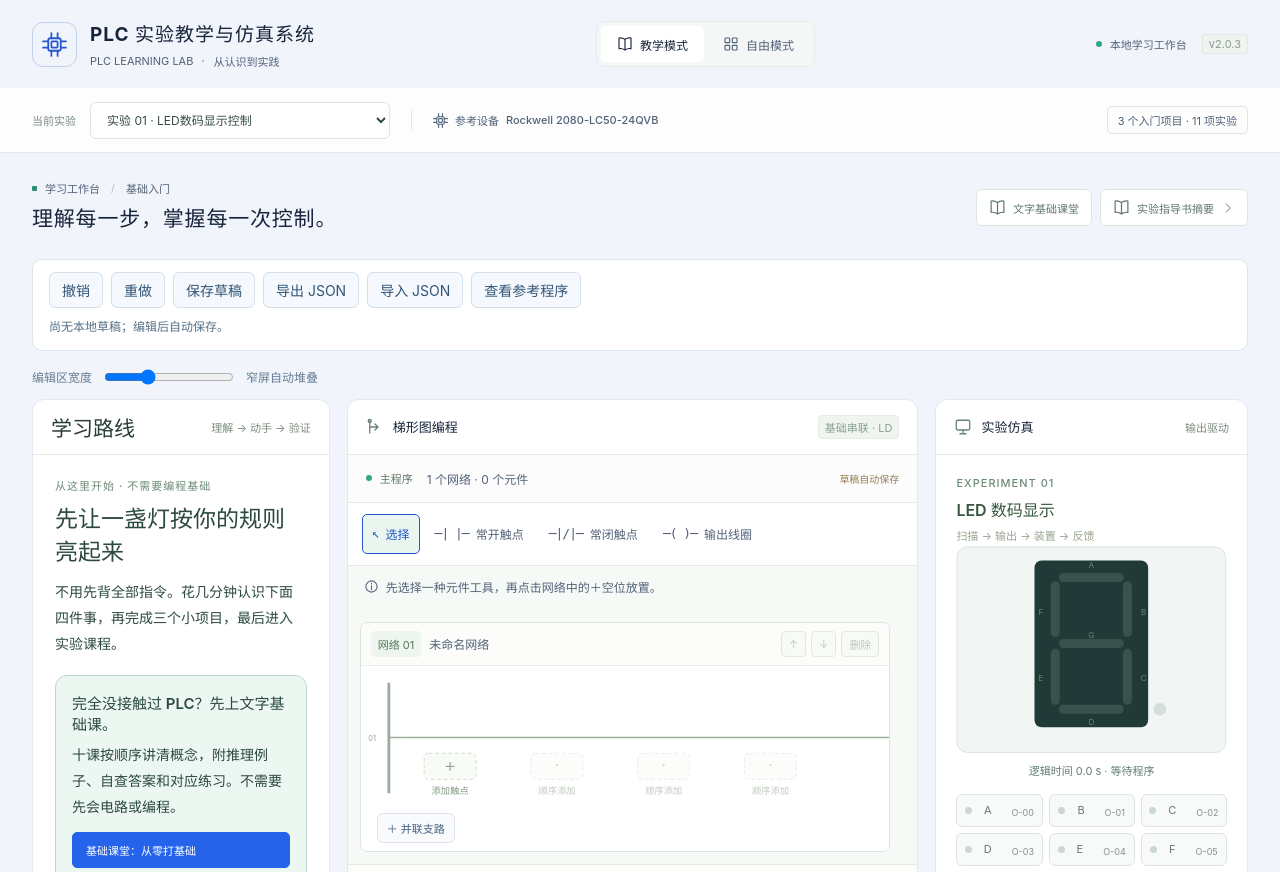
it: 阅读保存失败仍能继续换课，显示失败说明
Click the button "文字基础课堂" at (1034, 208), box [976,189,1092,226]
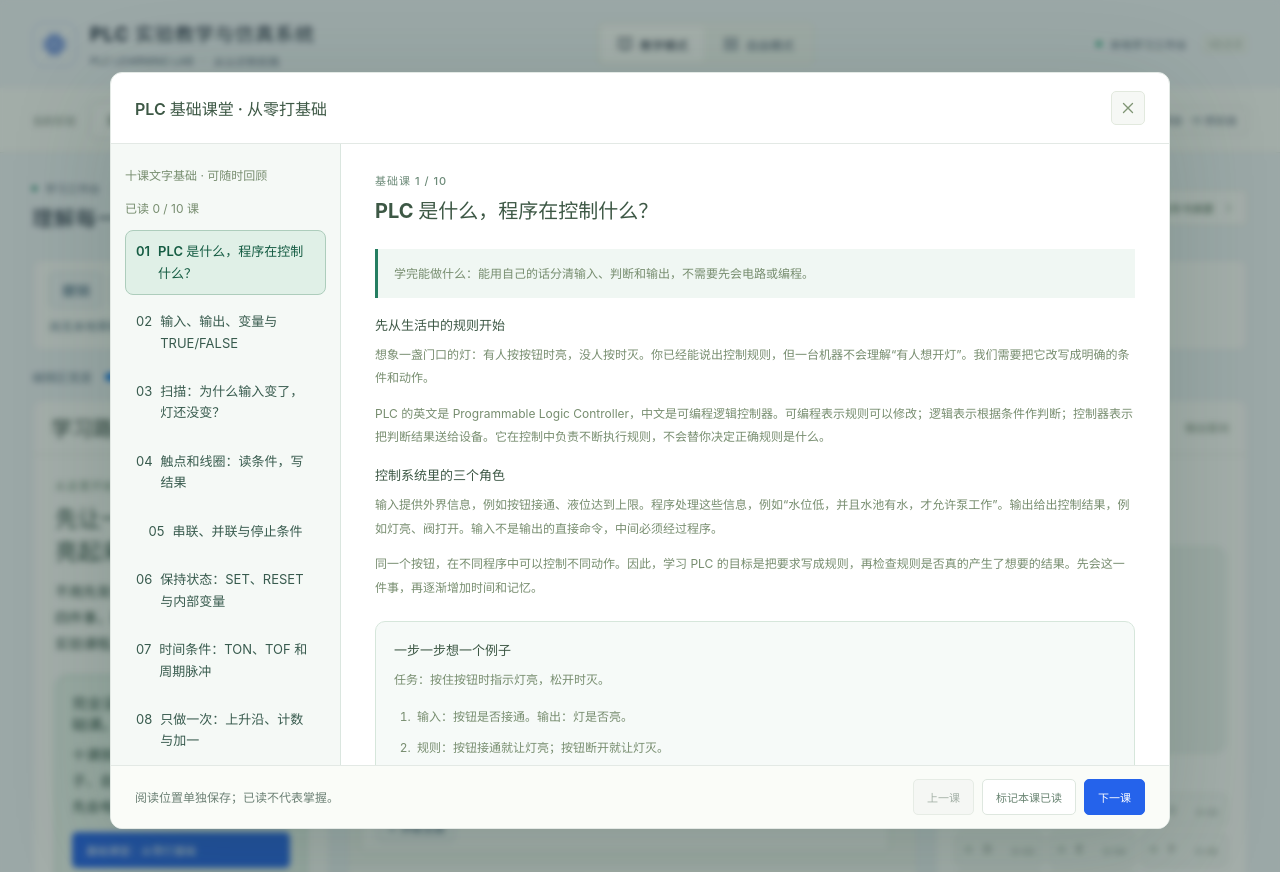
Click the button "下一课" at (1114, 796), box [1084,778,1145,814]
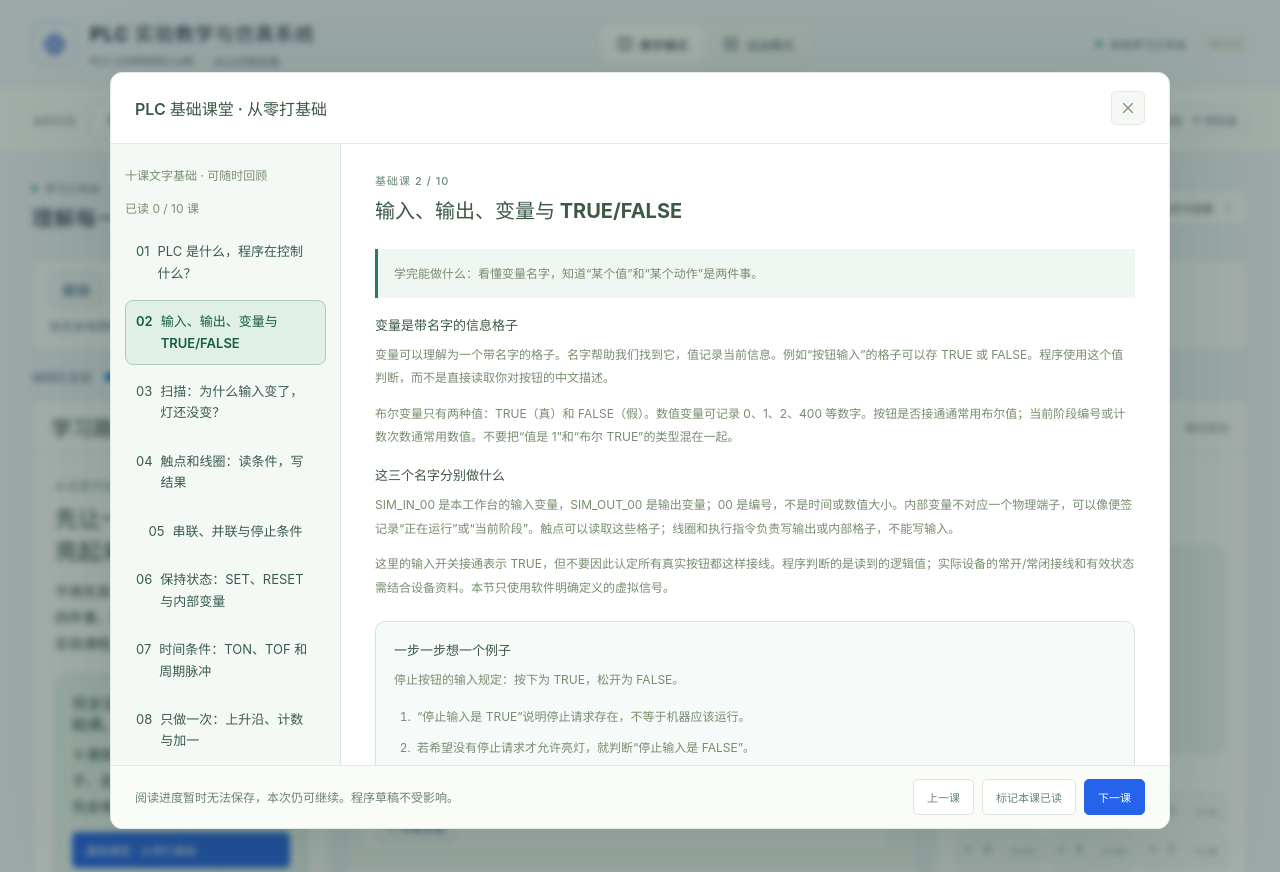
Expected: the heading "输入、输出、变量与 TRUE/FALSE" is shown, [375,198,682,222]
Expected: the message shows "阅读进度暂时无法保存", [135,790,459,805]
